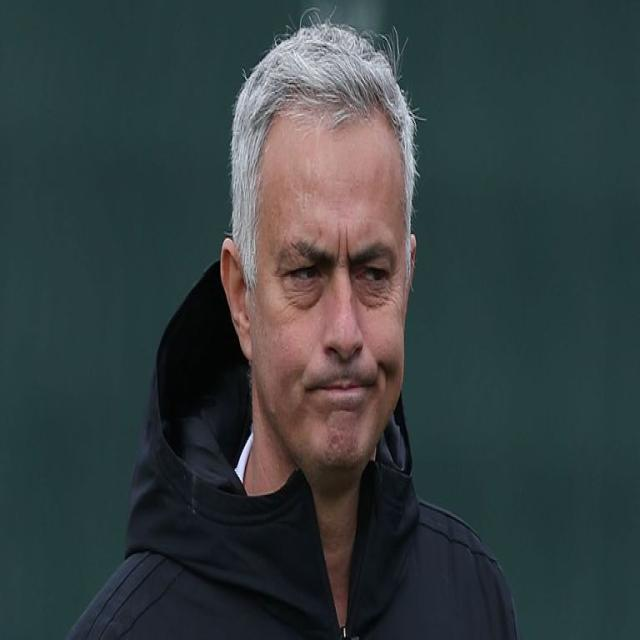human: (71, 10, 526, 640)
